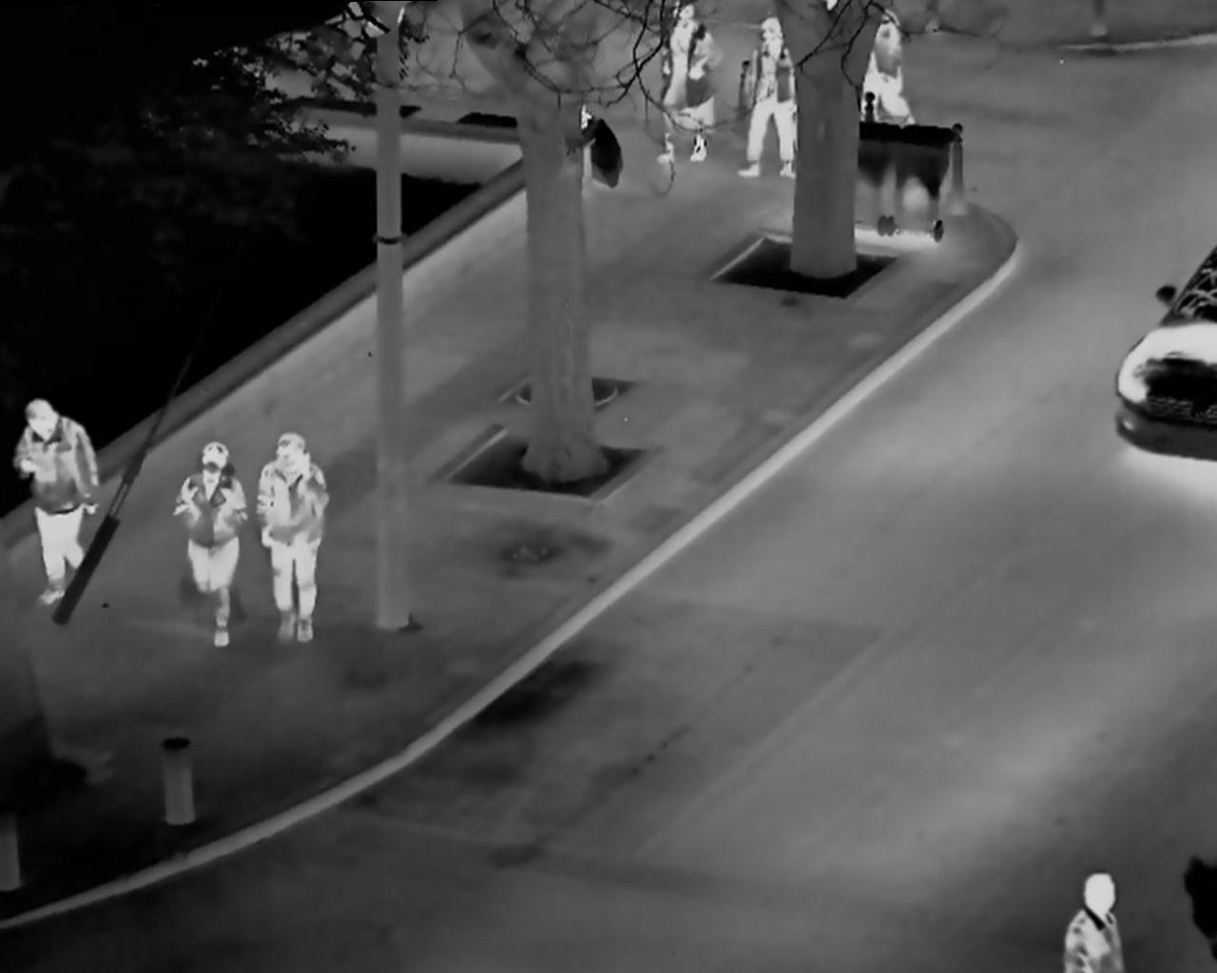person: (11, 382, 106, 629), (250, 424, 336, 649), (165, 418, 244, 648), (853, 5, 918, 166), (738, 8, 798, 174), (1054, 856, 1138, 973)
